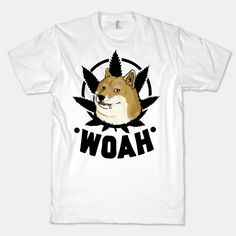doge: (93, 70, 143, 127)
